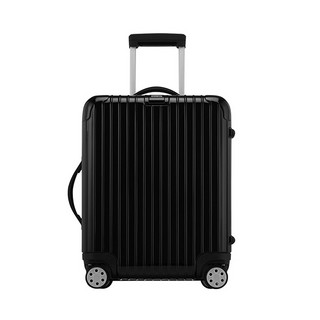box: (82, 95, 231, 281)
handle: (67, 161, 82, 225), (131, 86, 179, 95)
wheel: (84, 265, 112, 289), (200, 266, 228, 289)
